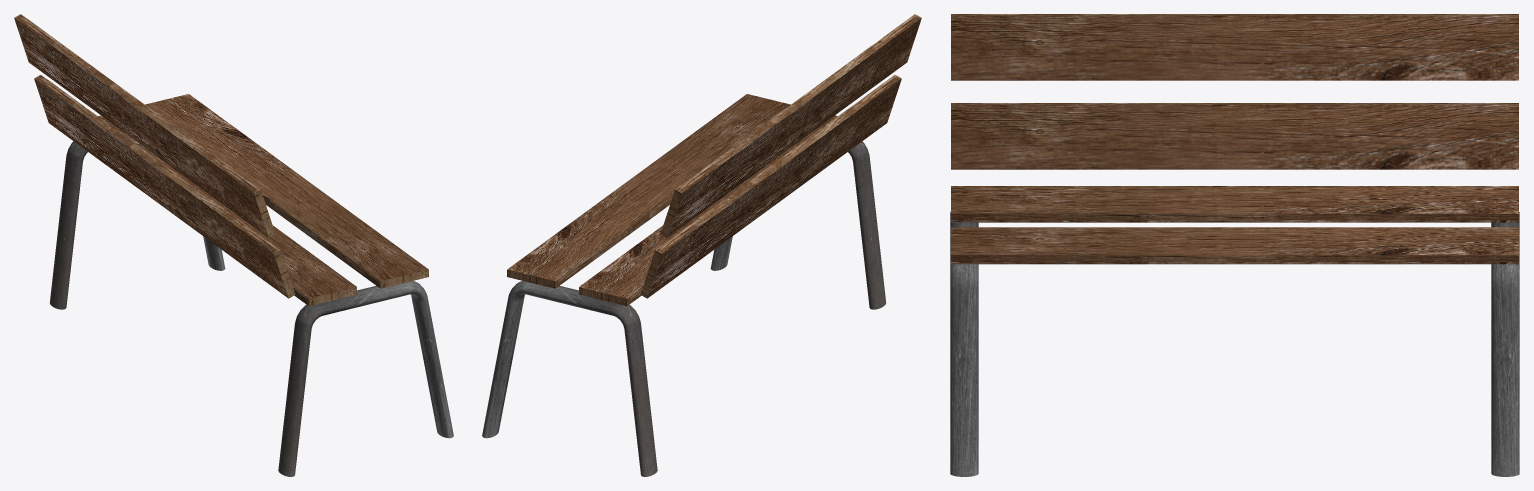
The model's file is pad01.fbx.
3 renders of one model, left to right at view 1: azimuth 30°, elevation 25°; view 2: azimuth 150°, elevation 25°; view 3: azimuth 270°, elevation 25°, orthographic. The views are drawn at different scales.
Visible parts, largest first — view 1: Cylinder; view 2: Cylinder; view 3: Cylinder.
Boxes of the visible parts, x1,y1,x2,y2 form: Cylinder: (14,14,453,476); Cylinder: (482,14,921,476); Cylinder: (950,14,1519,476).
Size of the model in its own units: 97.66 by 135 by 201.
2 materials, 2 textured.
